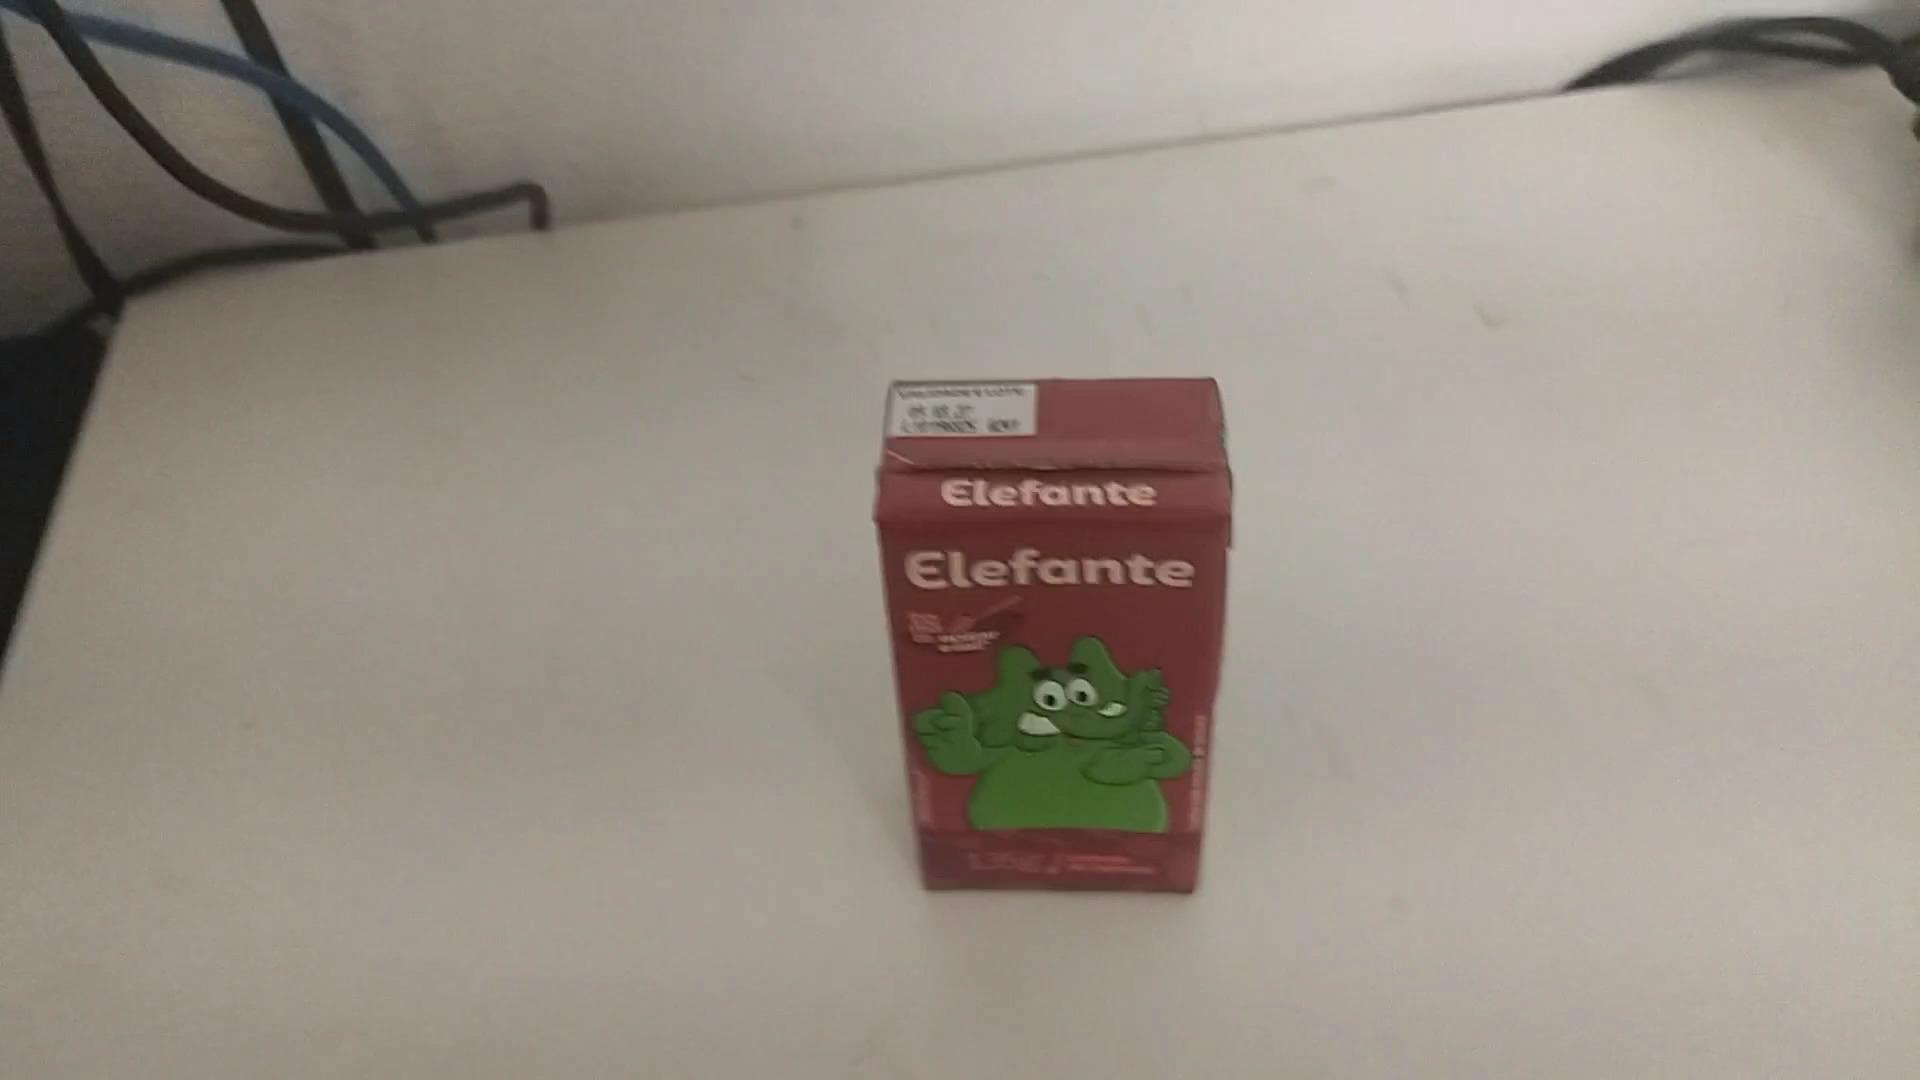tomate: (865, 363, 1241, 893)
